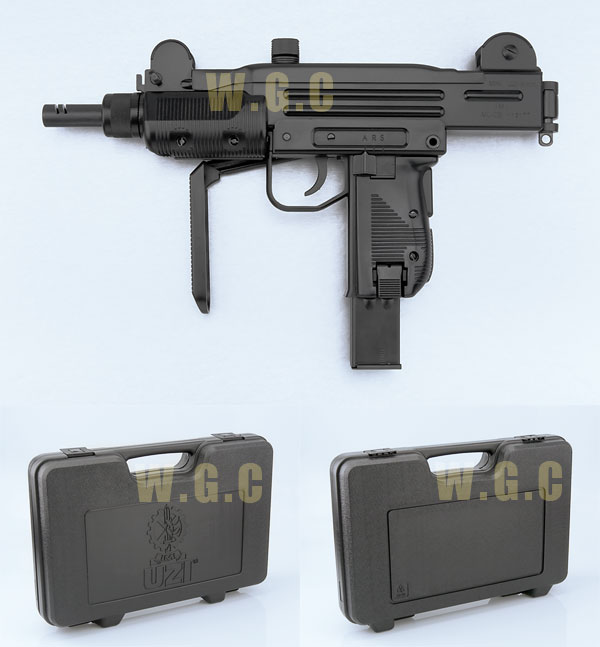rifle: (38, 10, 567, 370)
